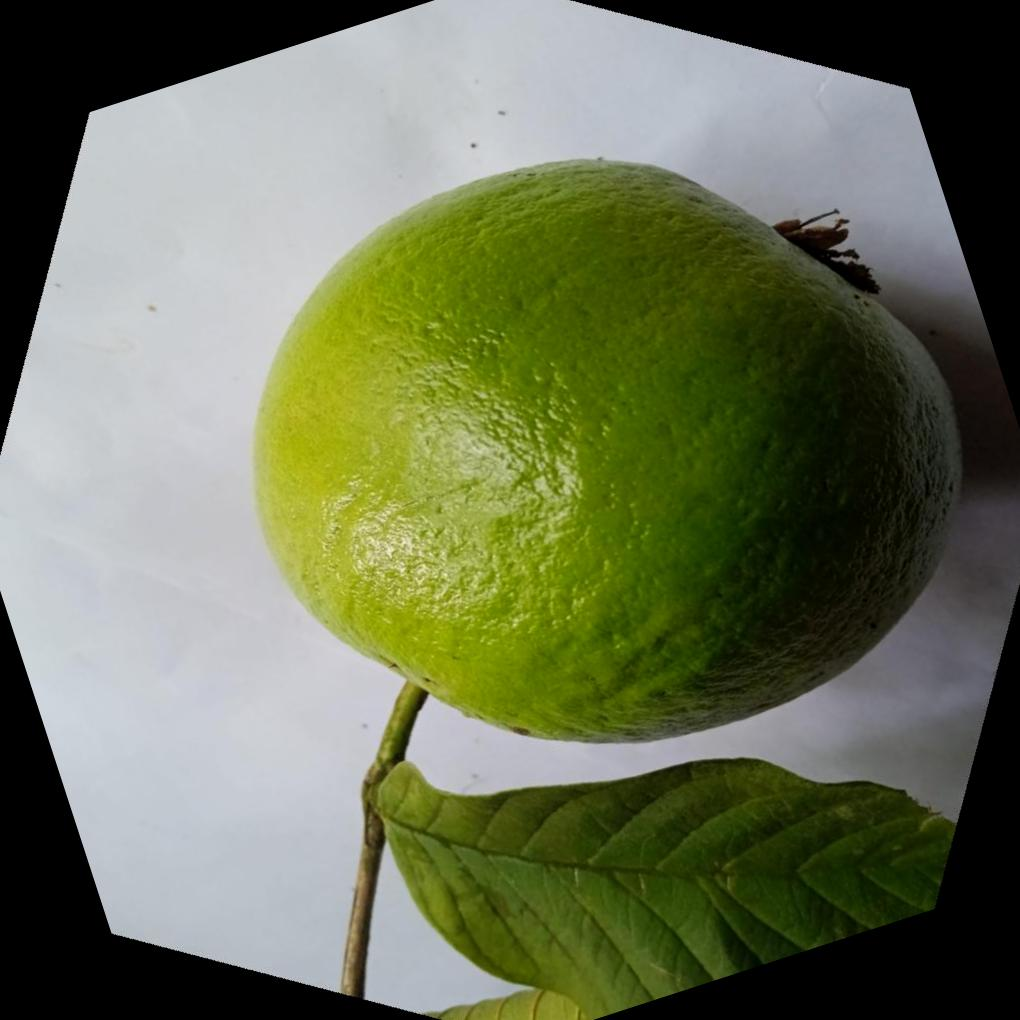FreshGuava: (252, 154, 969, 744)
